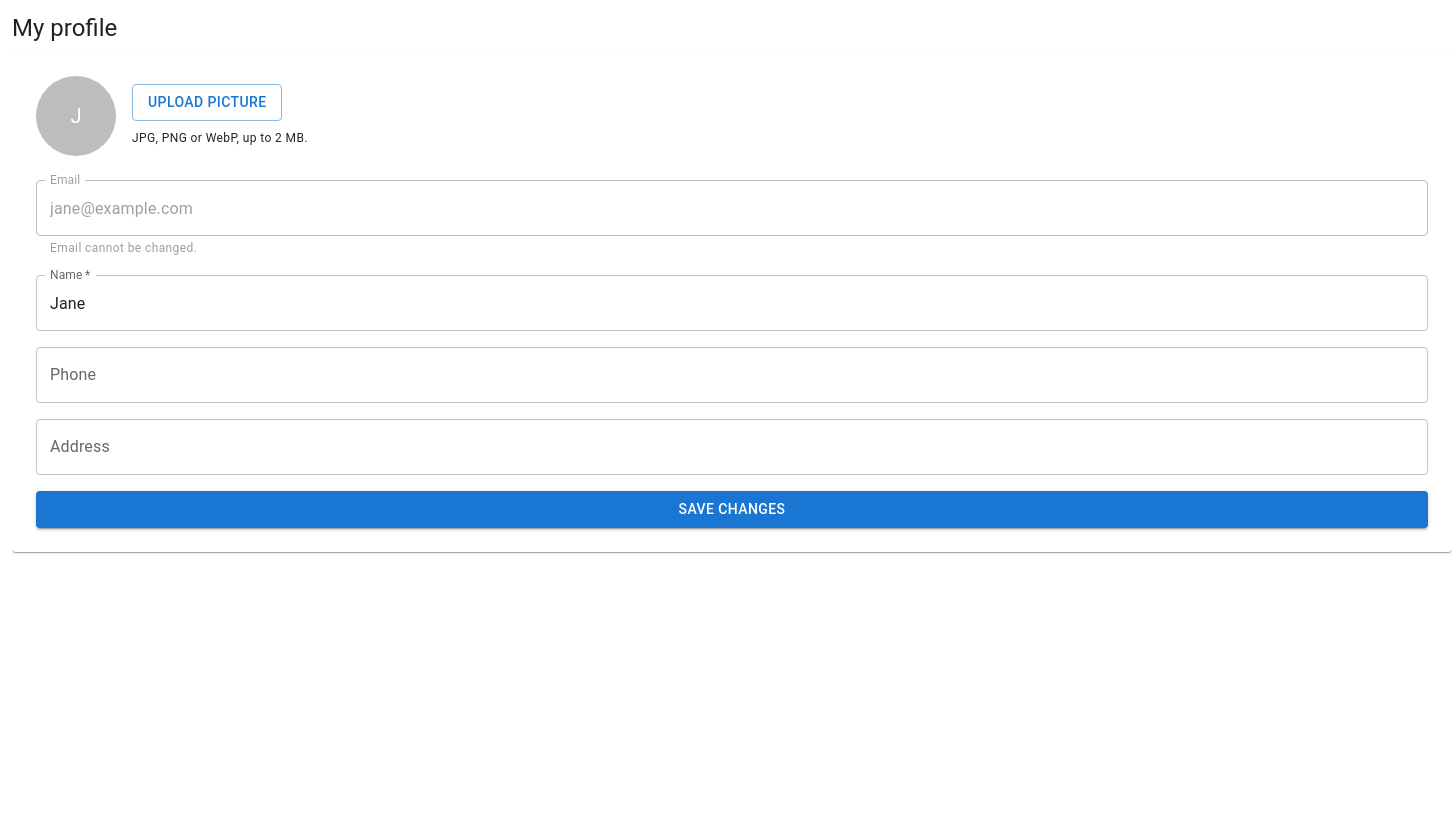
Test case: ProfilePage › saves the profile and updates the signed-in user
This screenshot has width=1452, height=822.
Replace the text in the field labelled "Name *" with "Jane Doe" at (732, 303), box [36, 275, 1428, 331]
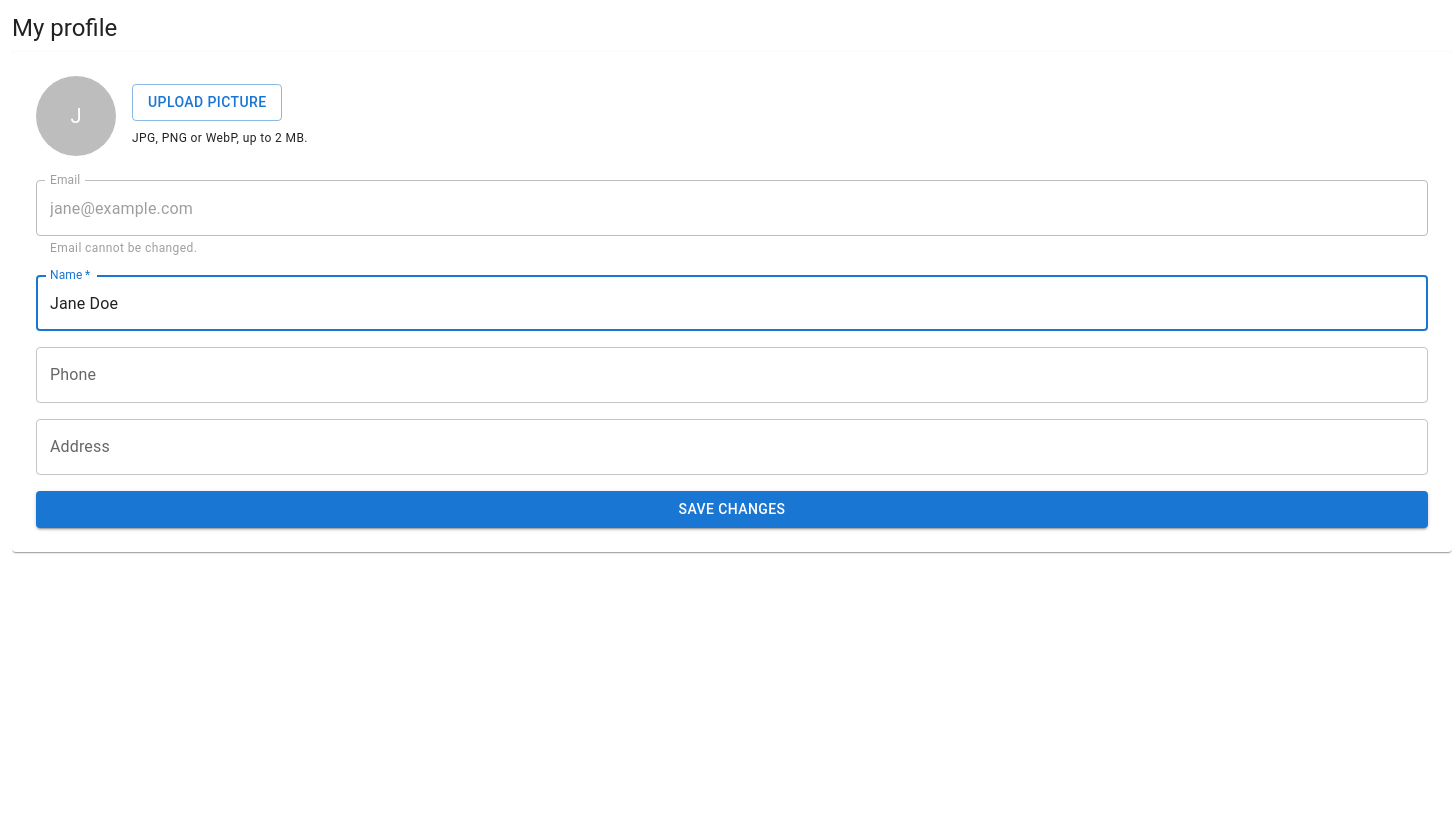
Type "+55 11 91234-5678" into the field labelled "Phone" at (732, 375), box [36, 347, 1428, 403]
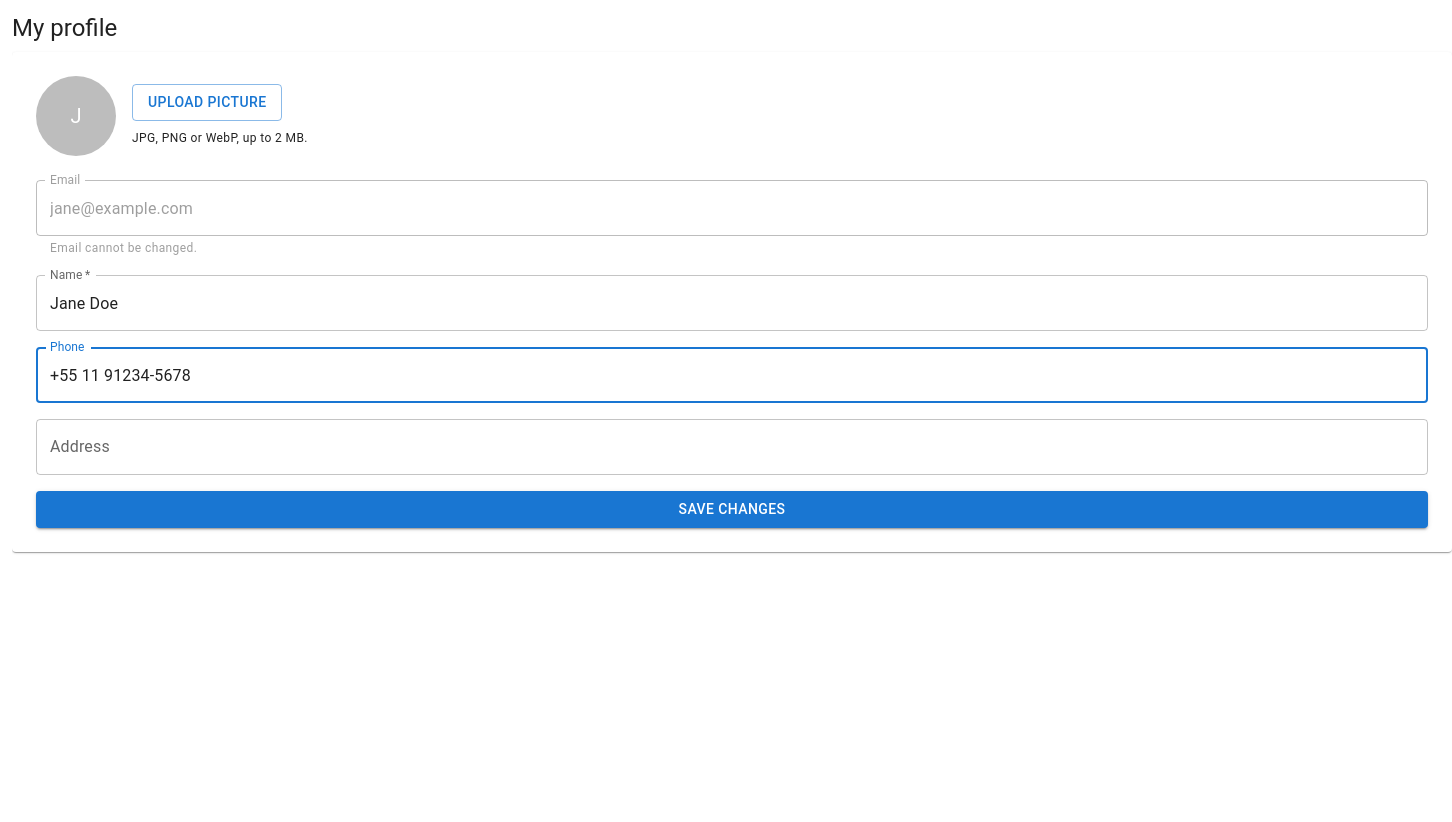
Click the button "Save changes" at (732, 510), box [36, 491, 1428, 528]
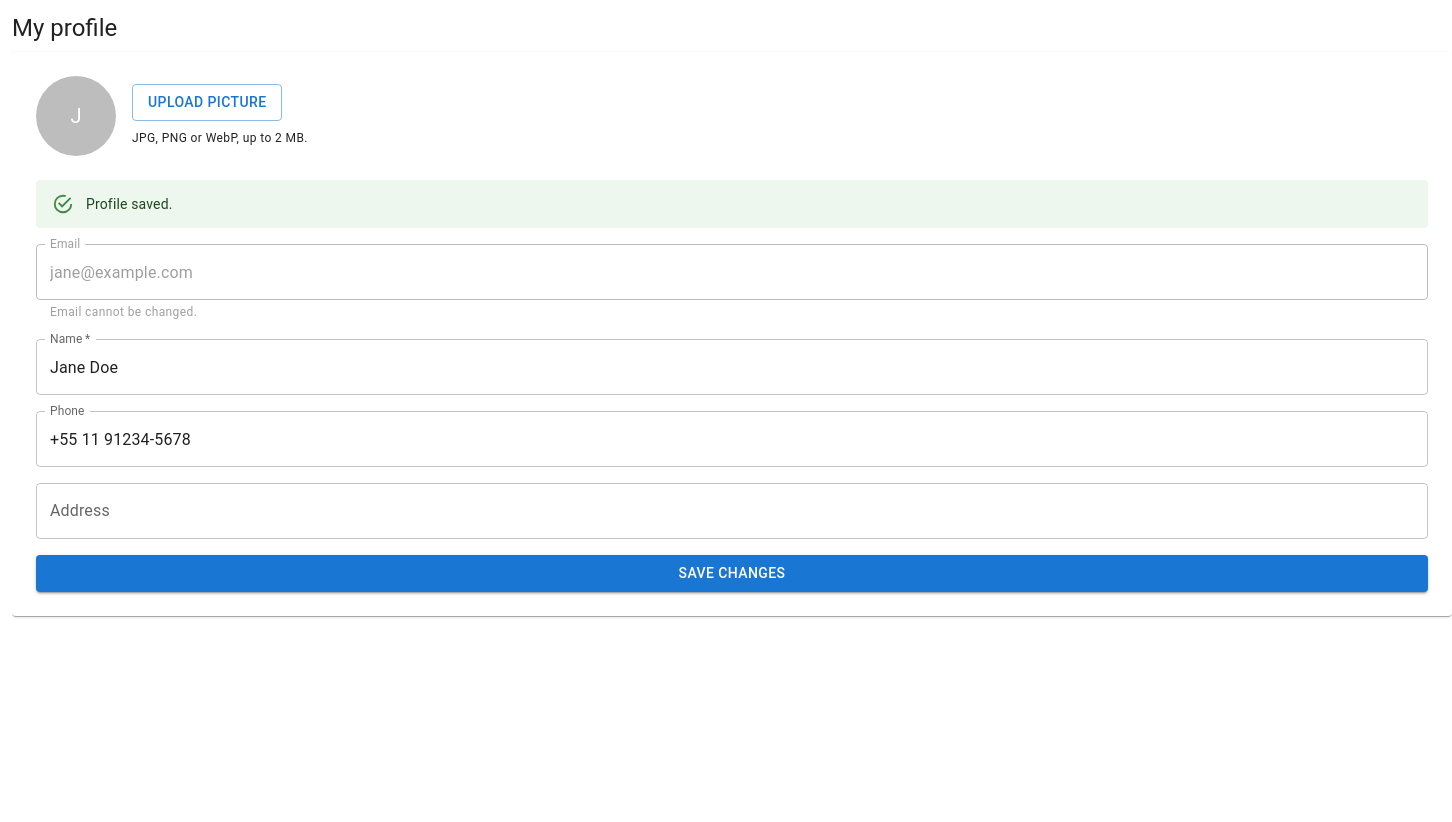
Expected: the text "Profile saved." is shown, [86, 196, 172, 212]
